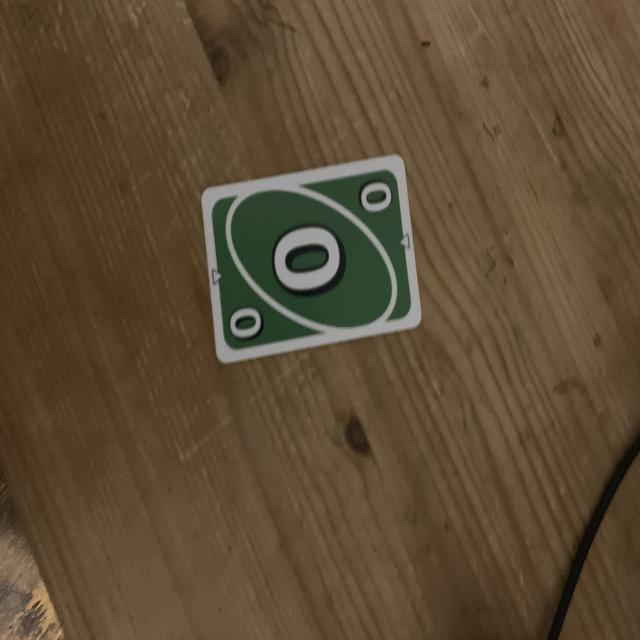lgreen-0: (353, 173, 398, 221)
